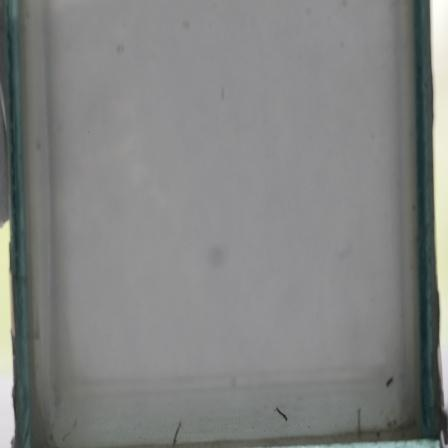Jentik-Nyamuk: (168, 420, 185, 448), (273, 403, 290, 424)
